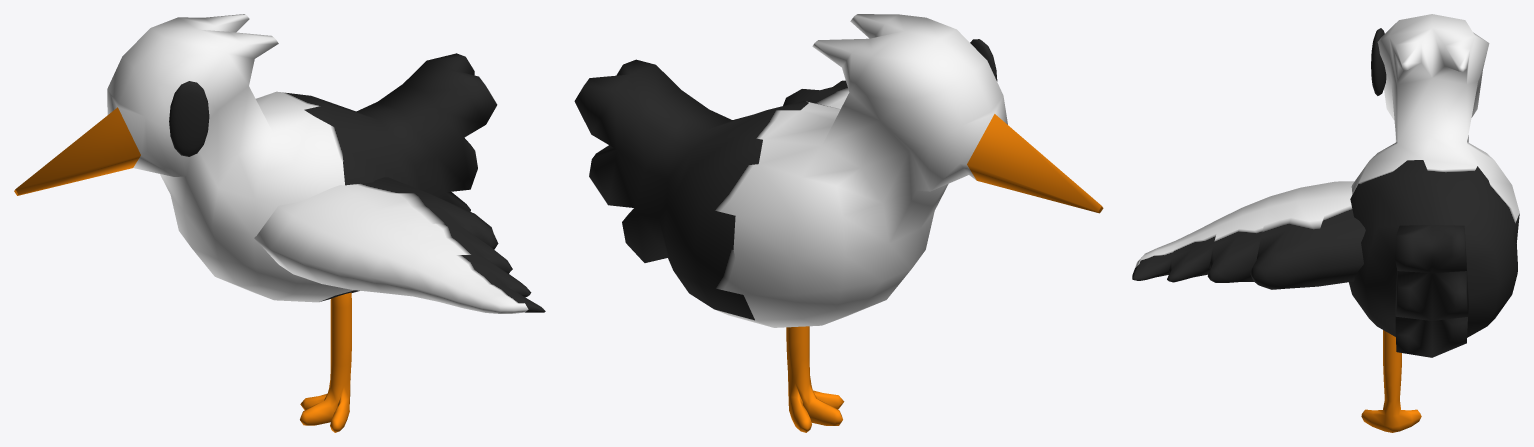
File: bird.glb
3 views of the same model, side by side, from view 1: azimuth 30°, elevation 25°; view 2: azimuth 150°, elevation 25°; view 3: azimuth 270°, elevation 25° (orthographic). The views are drawn at different scales.
Visible parts, largest first — view 1: Cube, Cube.004, Cube.001, Cube.003; view 2: Cube, Cube.001, Cube.004; view 3: Cube, Cube.004, Cube.001, Cube.003.
Part boxes in pixels (x1=…): Cube: x1=14, y1=14, x2=497, y2=302; Cube.004: x1=254, y1=177, x2=545, y2=313; Cube.001: x1=300, y1=292, x2=351, y2=432; Cube.003: x1=169, y1=81, x2=209, y2=156; Cube: x1=574, y1=14, x2=1103, y2=327; Cube.001: x1=786, y1=326, x2=844, y2=432; Cube.004: x1=783, y1=80, x2=849, y2=108; Cube: x1=1349, y1=14, x2=1519, y2=357; Cube.004: x1=1132, y1=181, x2=1365, y2=289; Cube.001: x1=1361, y1=330, x2=1421, y2=432; Cube.003: x1=1371, y1=28, x2=1386, y2=95.
Size of the model in its own units: 4.33 by 3.55 by 3.53.
1 material, 1 textured.
